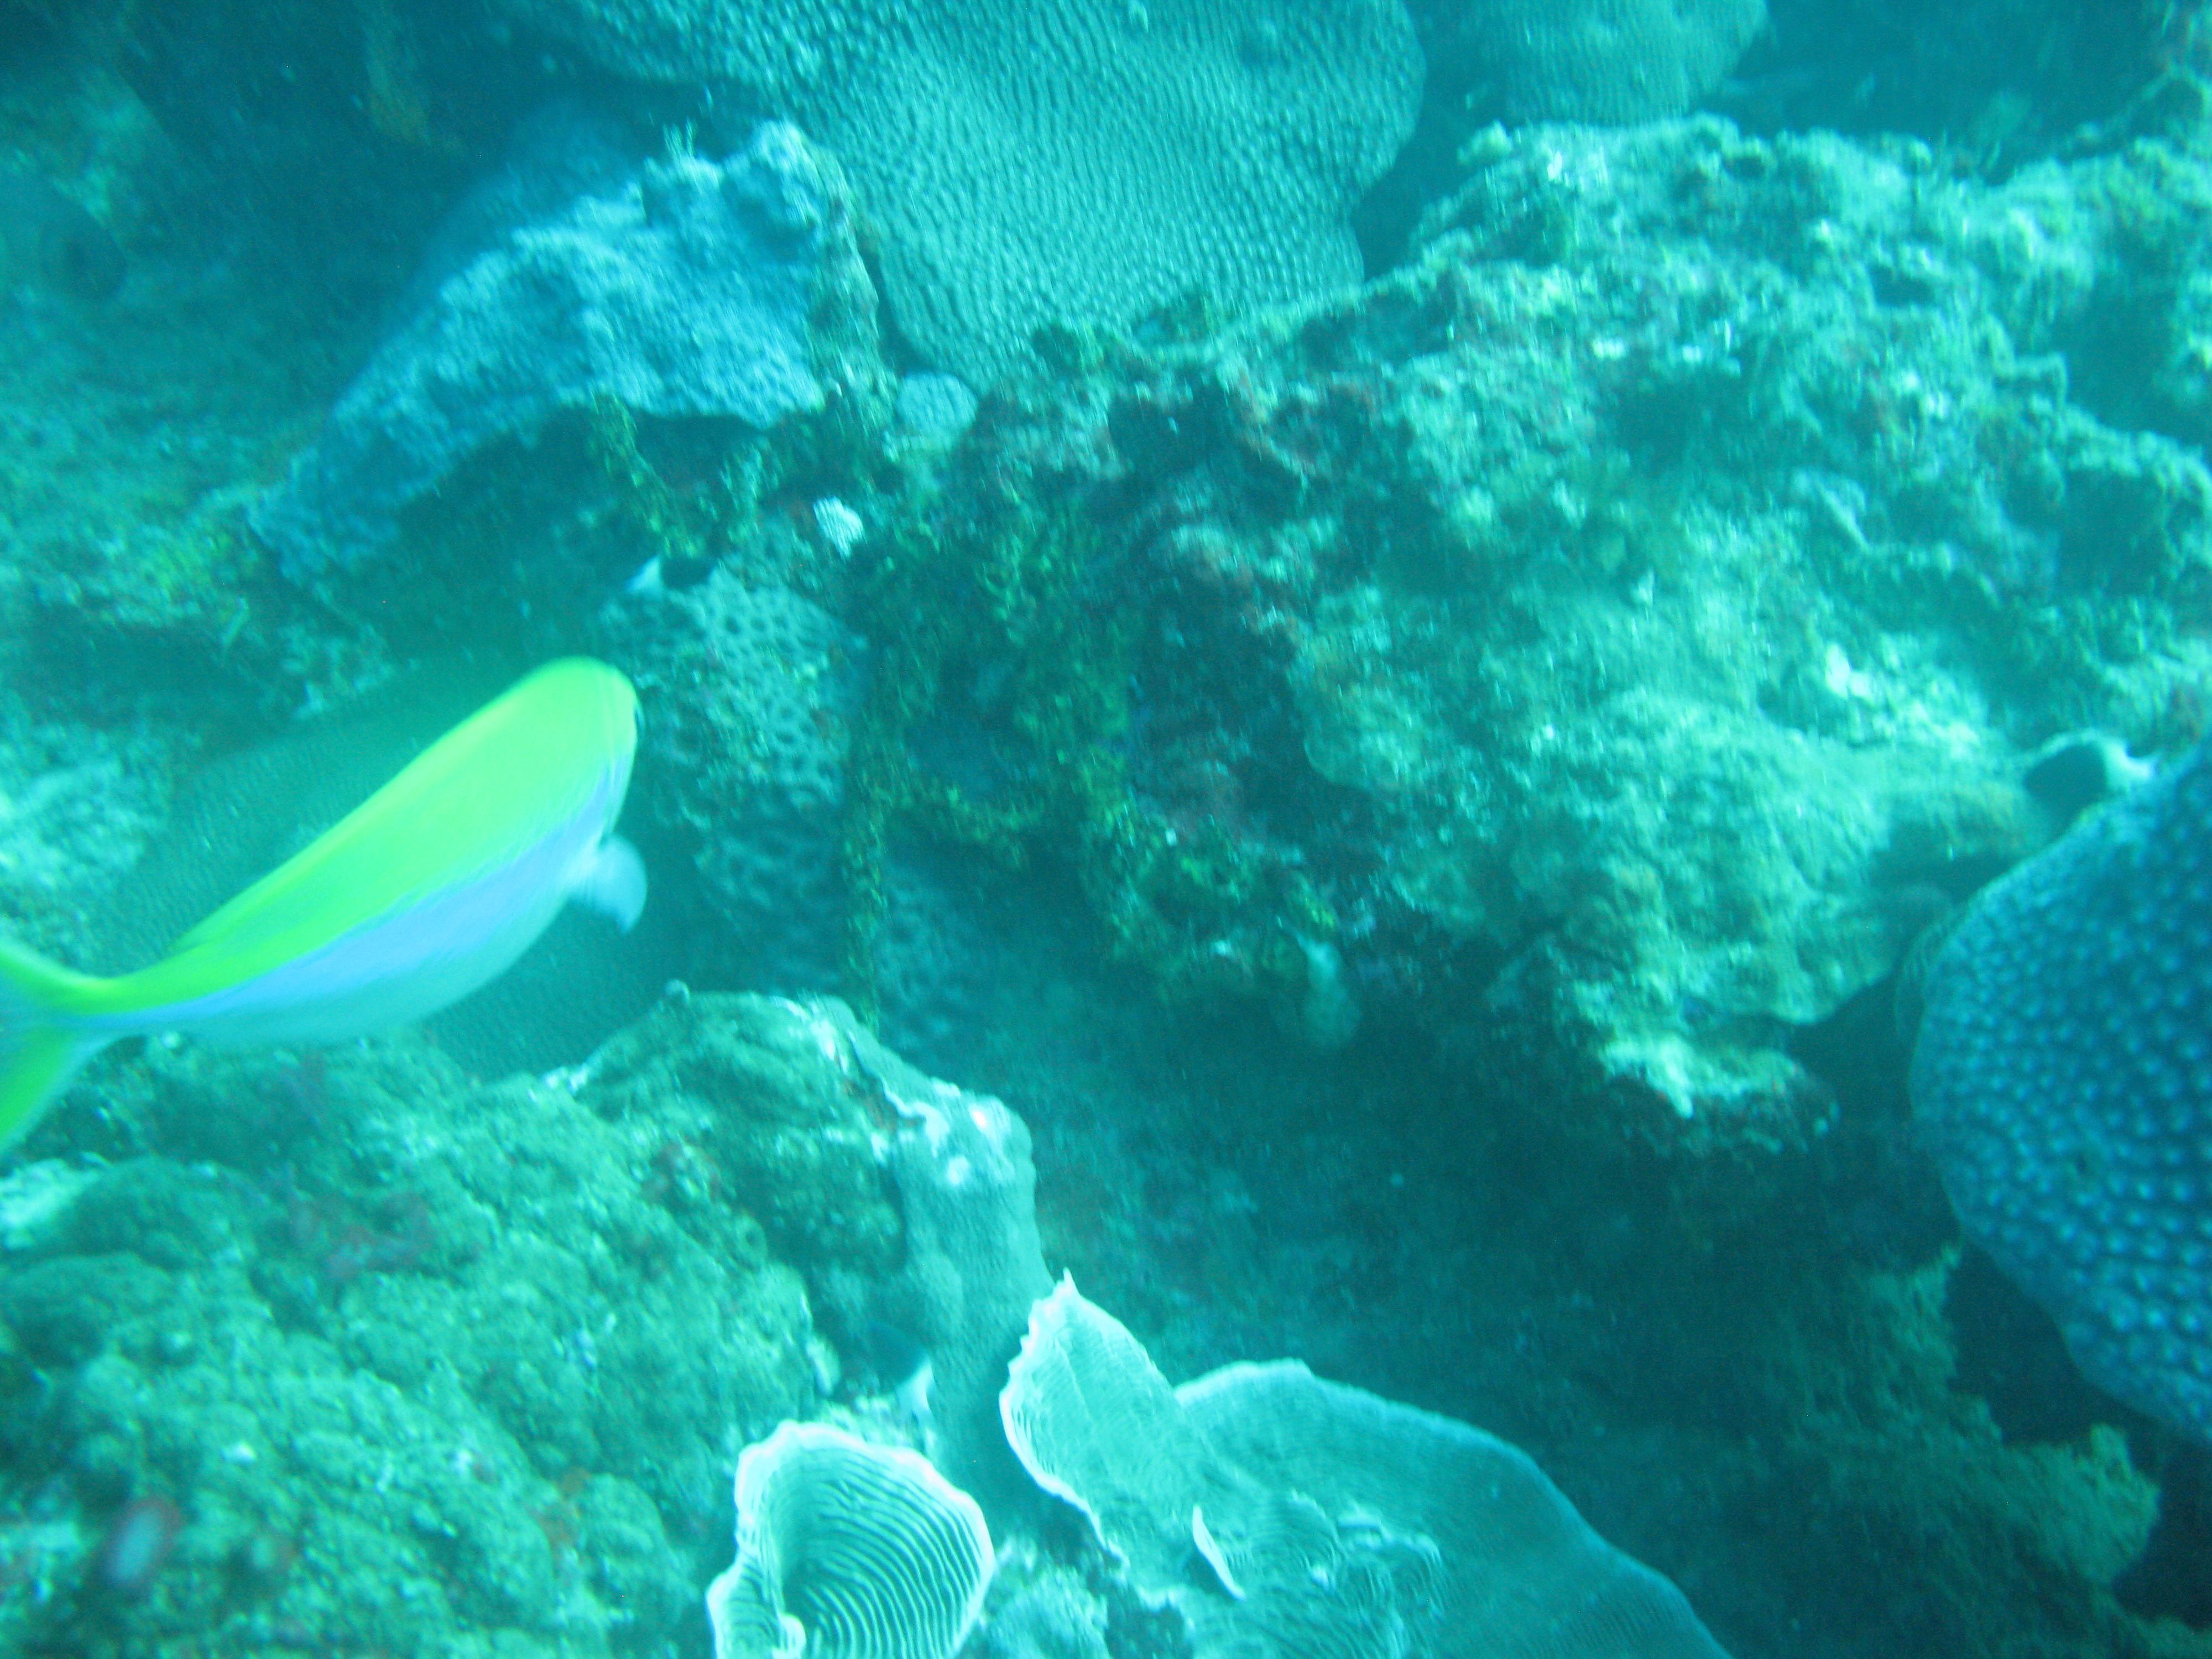Caesio xanthonota: (0, 518, 874, 1234)
